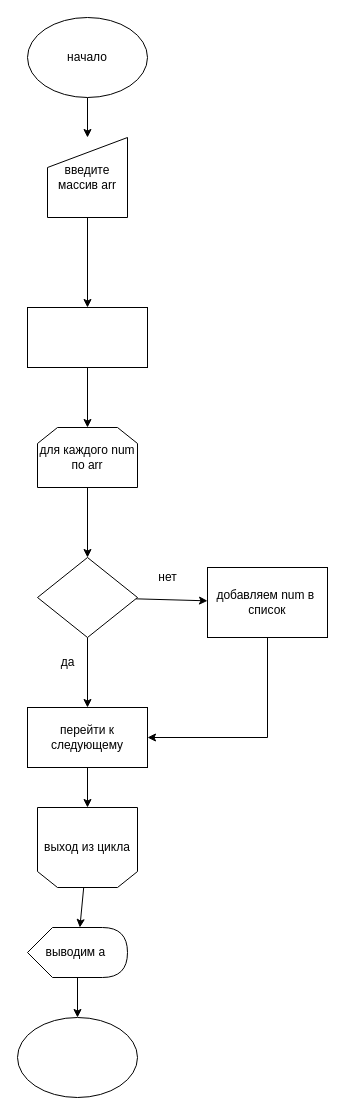
The diagram is 345 pixels wide and 1115 high, and some of its shapes have lost their labels. The centre of each missing label's shape, as x and y in pixels:
"есть ли num в a?" goes at point 87,597.
"Конец." goes at point 77,1057.
"создать список a" goes at point 87,337.
